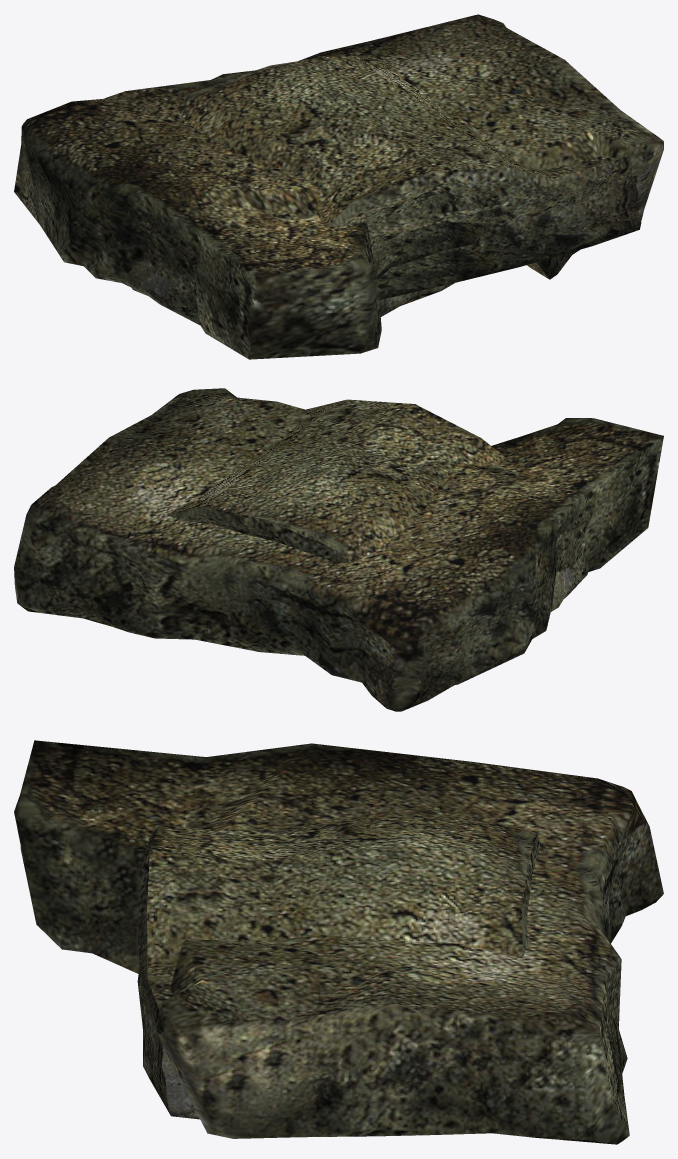
The model's file is Concrete.FBX.
3 views of the same model, one above another, from view 1: azimuth 30°, elevation 25°; view 2: azimuth 150°, elevation 25°; view 3: azimuth 270°, elevation 25° (orthographic). The views are drawn at different scales.
Visible parts, largest first — view 1: Concrete_Gap, Concrete_Bend, Concrete_Mid, Concrete_Small; view 2: Concrete_Gap, Concrete_Bend, Concrete_Mid, Concrete_Small; view 3: Concrete_Gap, Concrete_Bend, Concrete_Mid.
Part boxes in pixels (left/top/right/bottom): Concrete_Gap: left=14, top=14, right=663, bottom=359; Concrete_Bend: left=176, top=53, right=586, bottom=279; Concrete_Mid: left=136, top=156, right=641, bottom=325; Concrete_Small: left=124, top=221, right=171, bottom=298; Concrete_Gap: left=14, top=388, right=663, bottom=711; Concrete_Bend: left=166, top=399, right=506, bottom=563; Concrete_Mid: left=238, top=397, right=594, bottom=598; Concrete_Small: left=551, top=534, right=573, bottom=611; Concrete_Gap: left=14, top=740, right=663, bottom=1144; Concrete_Bend: left=137, top=813, right=540, bottom=1039; Concrete_Mid: left=137, top=944, right=199, bottom=1119.
Size of the model in its own units: 125 by 37.67 by 120.
